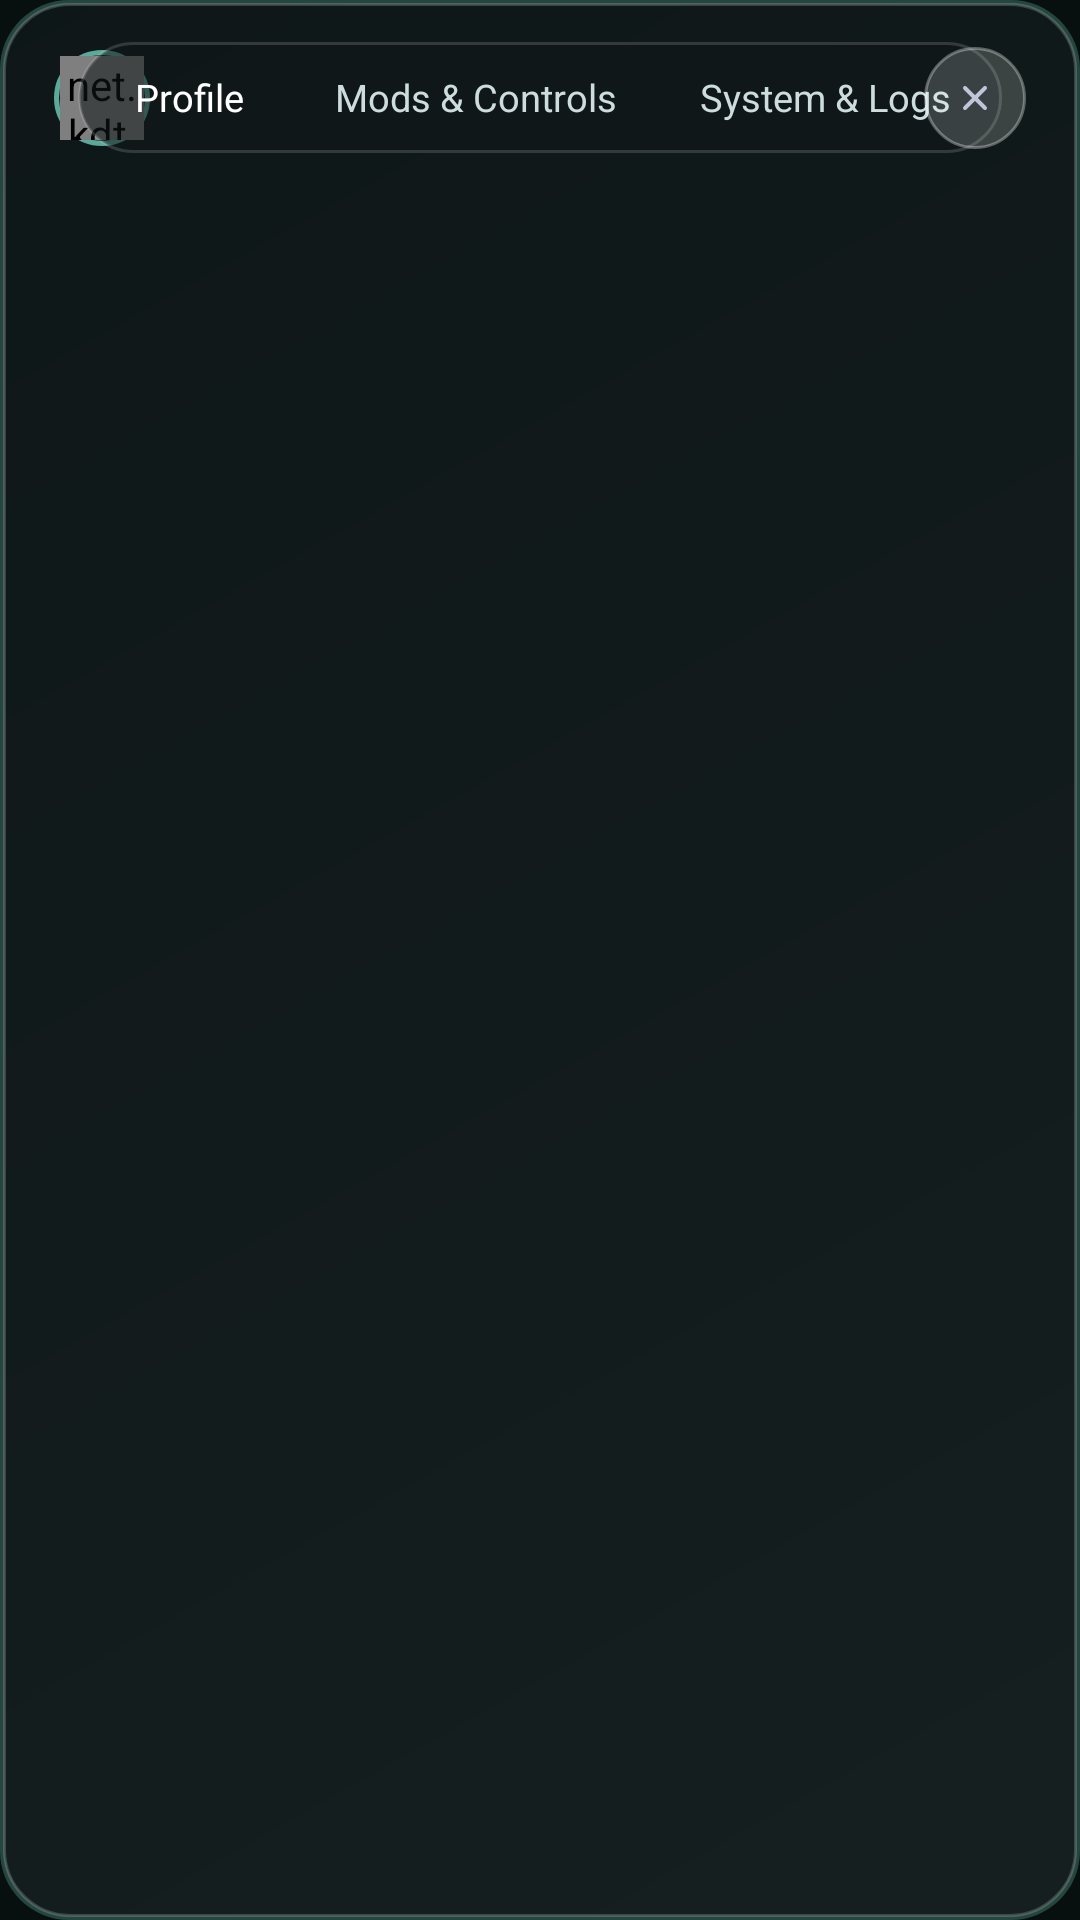

Icons on this 1080w x 1920h Android screen, each with the point to tap as (x=x, y=y):
aurora close: (x=975, y=98)
